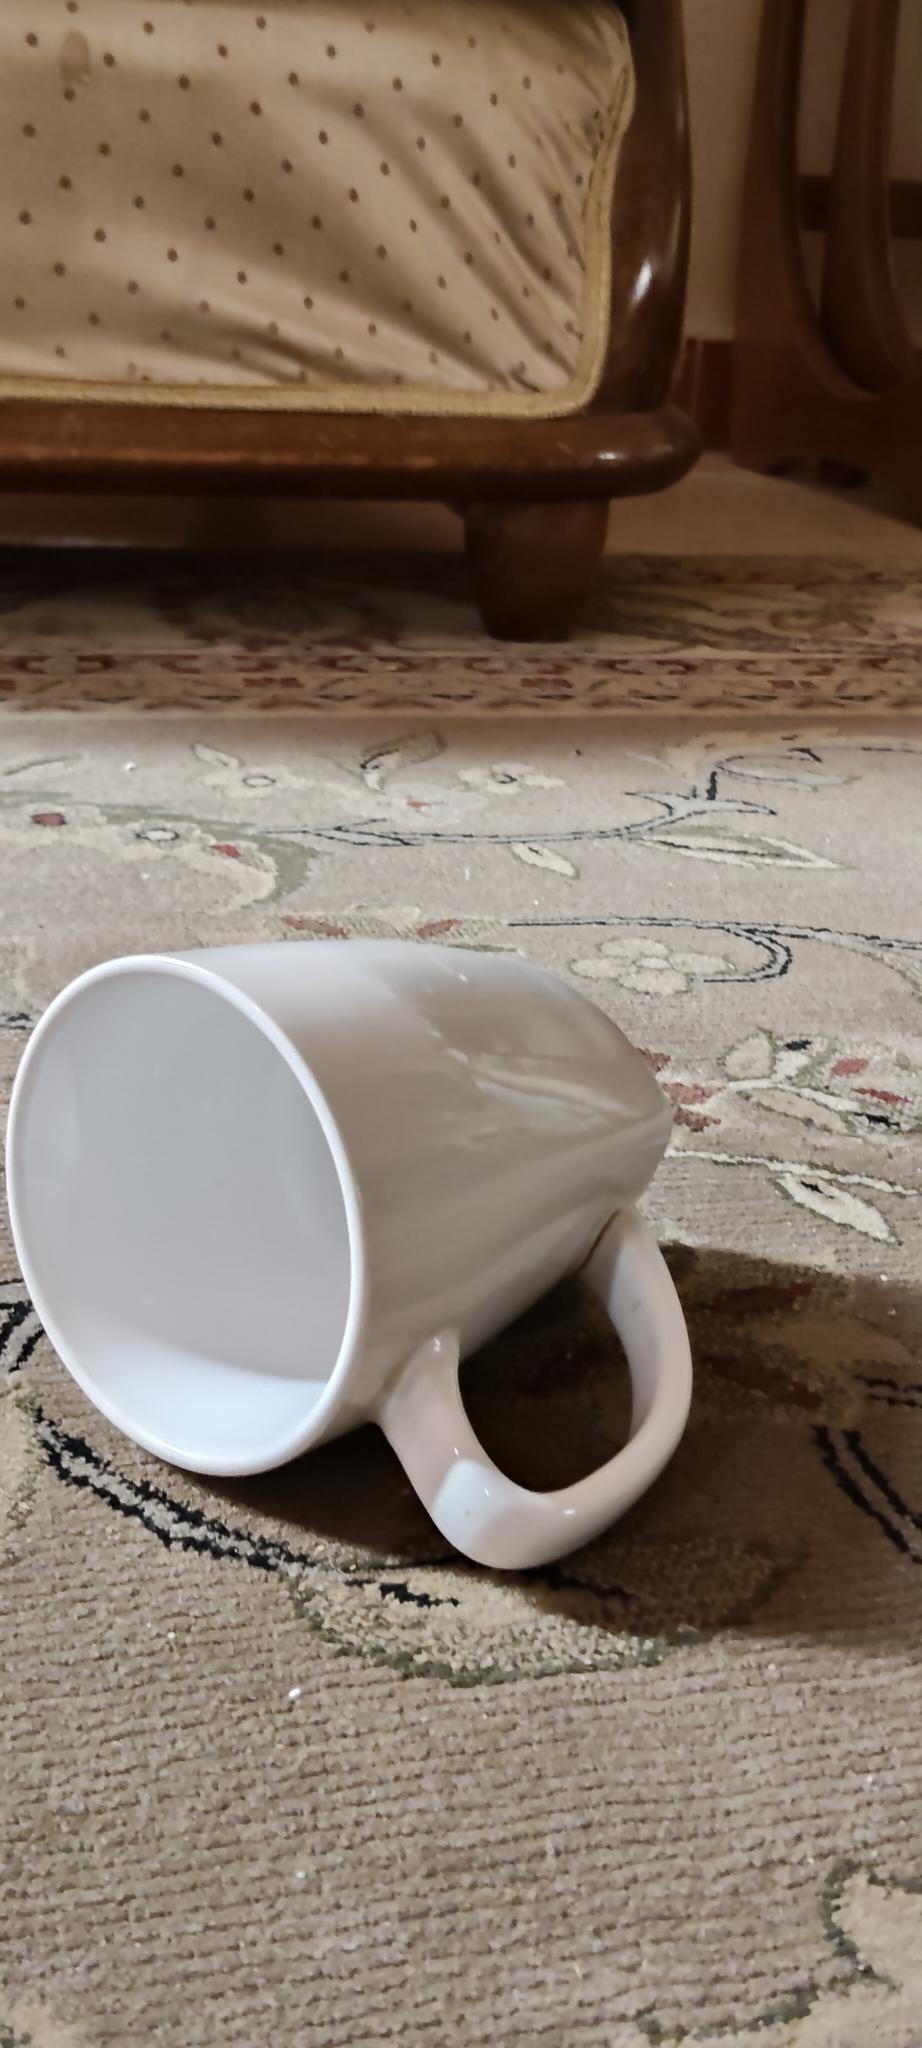Mug: (0, 929, 700, 1567)
